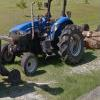Tractor: (6, 10, 100, 66)
